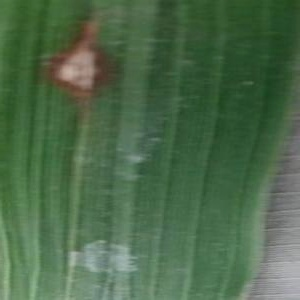Brown_Spot: (40, 13, 115, 111)
